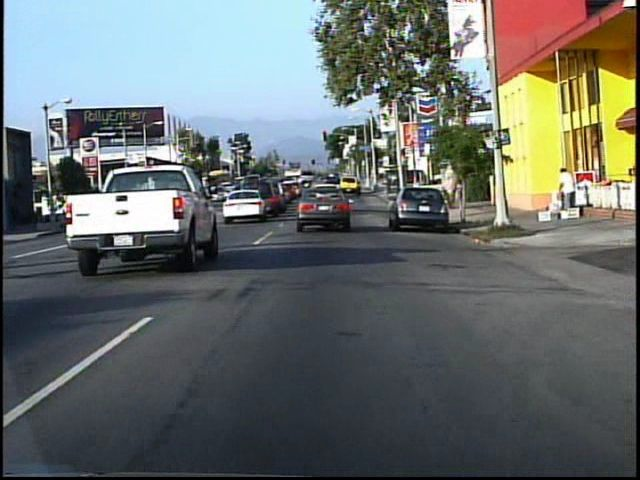person: (554, 161, 578, 209)
